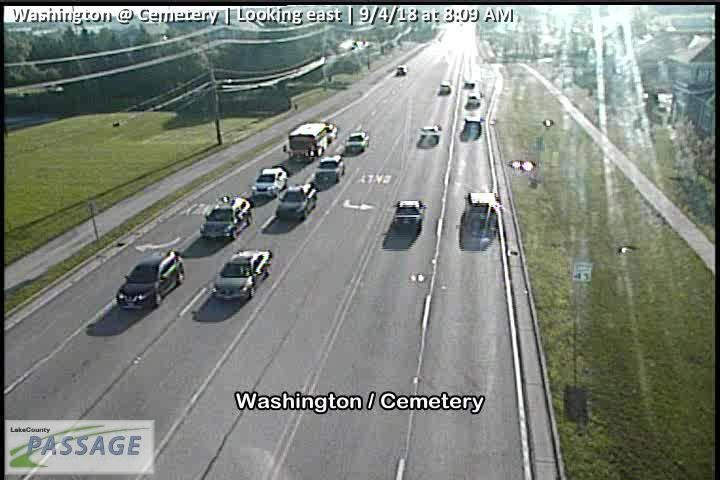SUV: (116, 250, 184, 309), (200, 196, 251, 240), (276, 183, 317, 222), (251, 166, 288, 199), (392, 199, 424, 225), (315, 155, 344, 183), (345, 130, 369, 153)
Sedan: (213, 249, 270, 301)
Truck: (283, 120, 337, 163)
